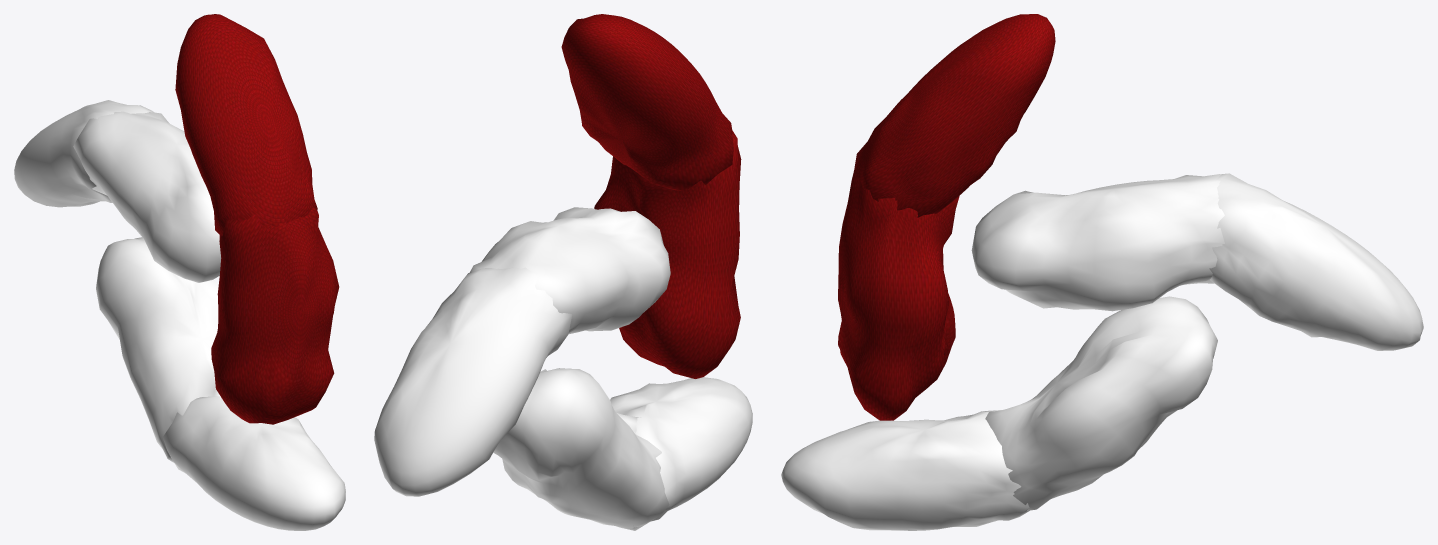
Rendered from rojo.glb.
The picture shows the model from 3 angles, left to right: view 1: azimuth 30°, elevation 25°; view 2: azimuth 150°, elevation 25°; view 3: azimuth 270°, elevation 25°; orthographic projection. The views are drawn at different scales.
Visible parts, largest first — view 1: Esfera.002, Esfera.001, Esfera.004; view 2: Esfera.004, Esfera.002, Esfera.001; view 3: Esfera.004, Esfera.001, Esfera.002.
Boxes of the visible parts, x1,y1,x2,y2 form: Esfera.002: [175, 14, 339, 424]; Esfera.001: [96, 237, 345, 530]; Esfera.004: [14, 100, 221, 282]; Esfera.004: [374, 207, 670, 496]; Esfera.002: [561, 14, 741, 378]; Esfera.001: [493, 368, 752, 530]; Esfera.004: [971, 173, 1423, 350]; Esfera.001: [781, 296, 1217, 530]; Esfera.002: [838, 14, 1055, 420].
Size of the model in its own units: 2.33 by 8.67 by 9.98.
Materials: 3 (1 with a texture image).
